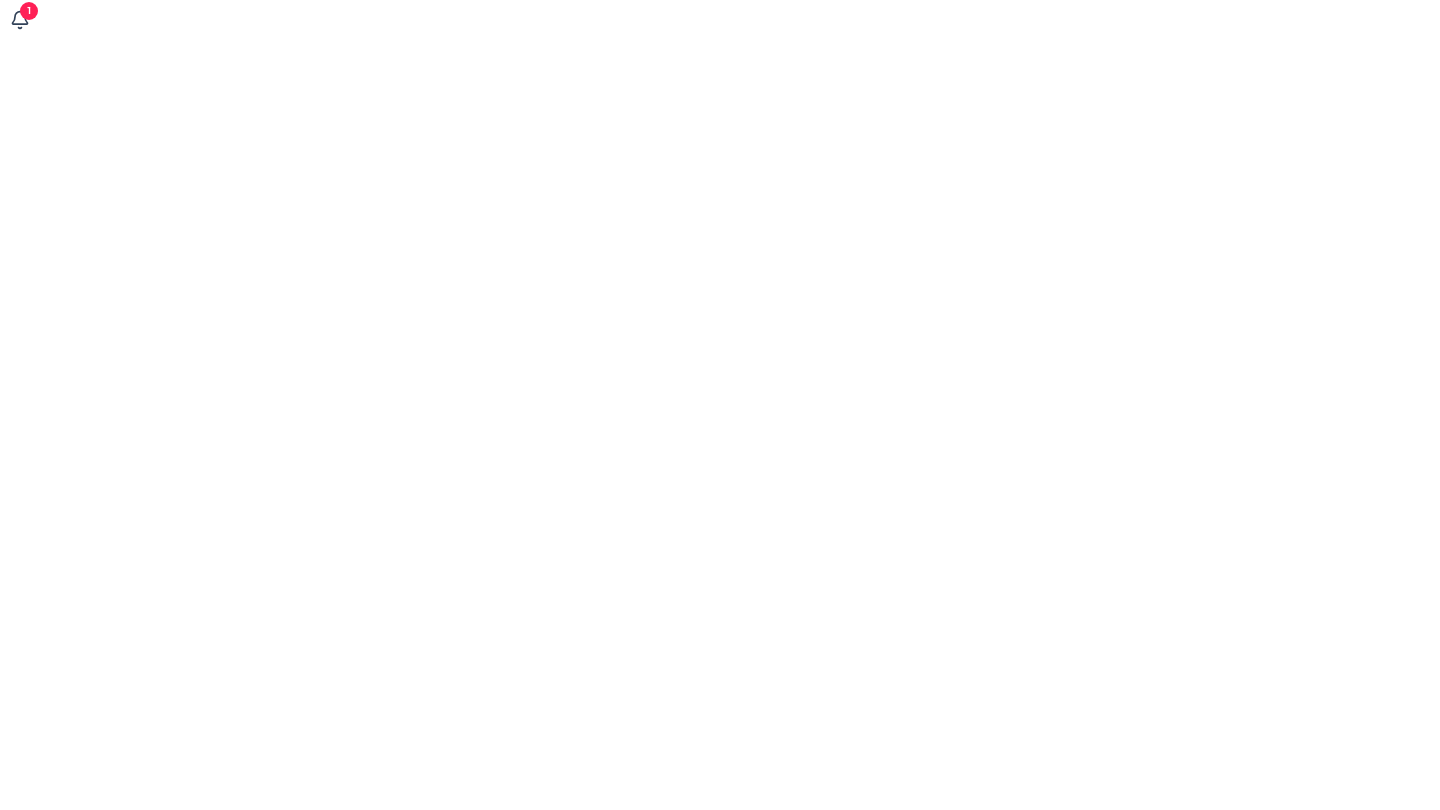
Test: NotificationBell › loads the list only when the panel is opened
The width and height of the screenshot is (1440, 810).
Click the button named "Notifications".
click(20, 20)  # box [0,0,40,40]
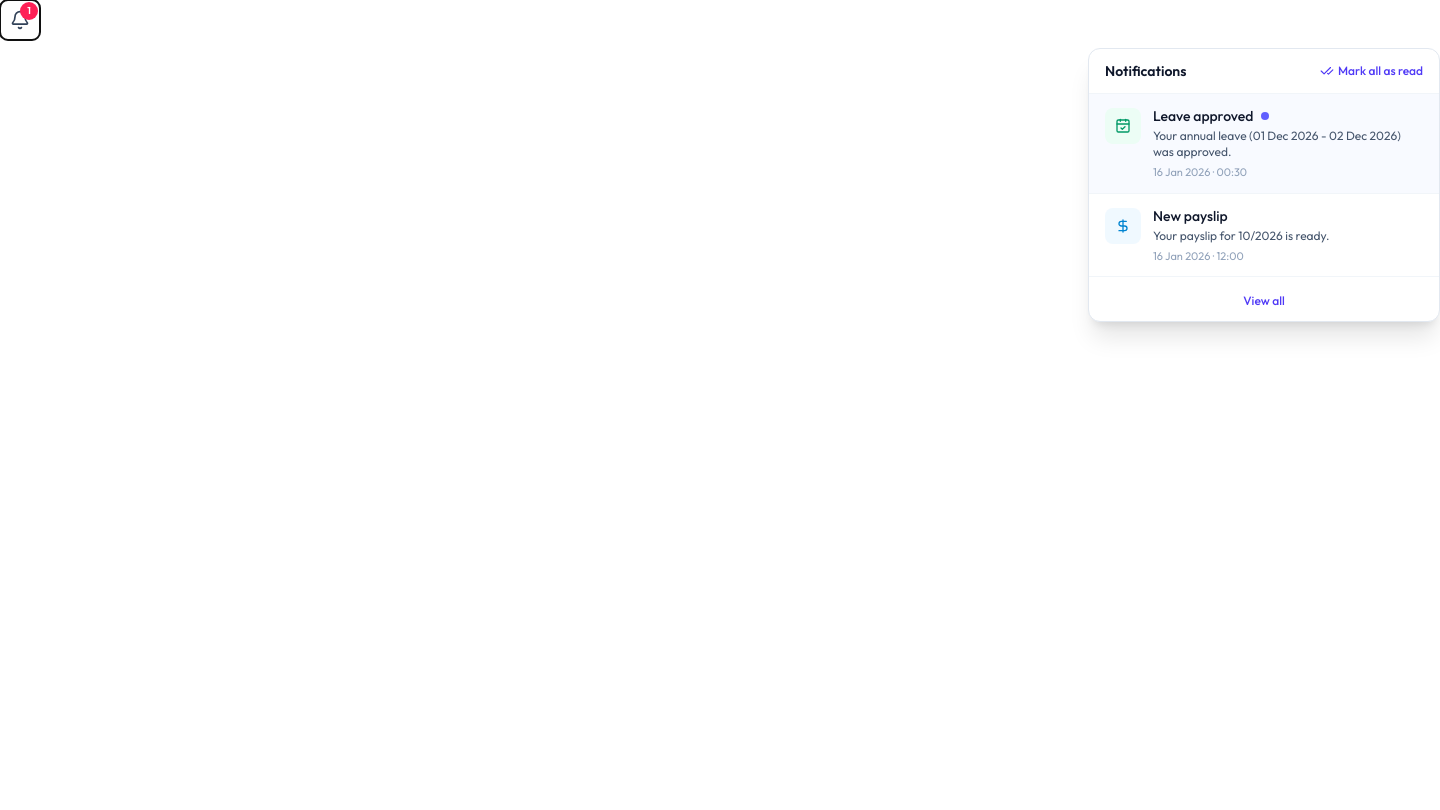
Now the text "Leave approved" is shown, box [1153,106,1253,126]
Now the text "New payslip" is shown, box [1153,206,1228,226]
Now the text "16 Jan 2026 · 00:30" is shown, box [1153,165,1247,179]
